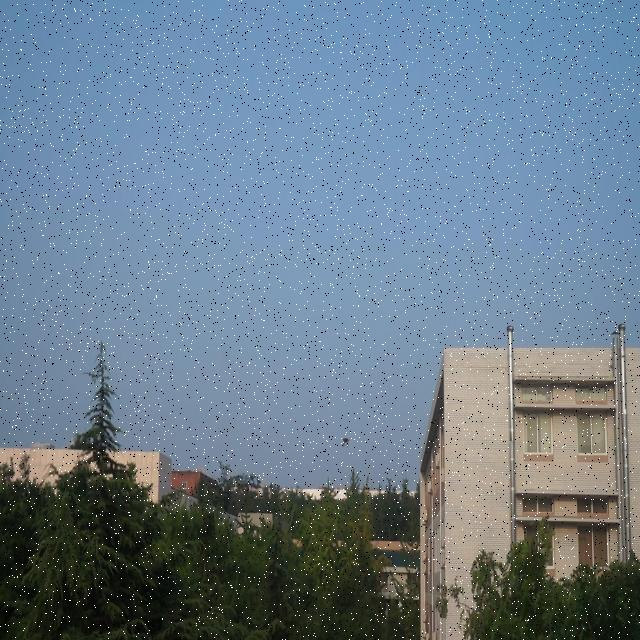UAV: (341, 437, 350, 447)
